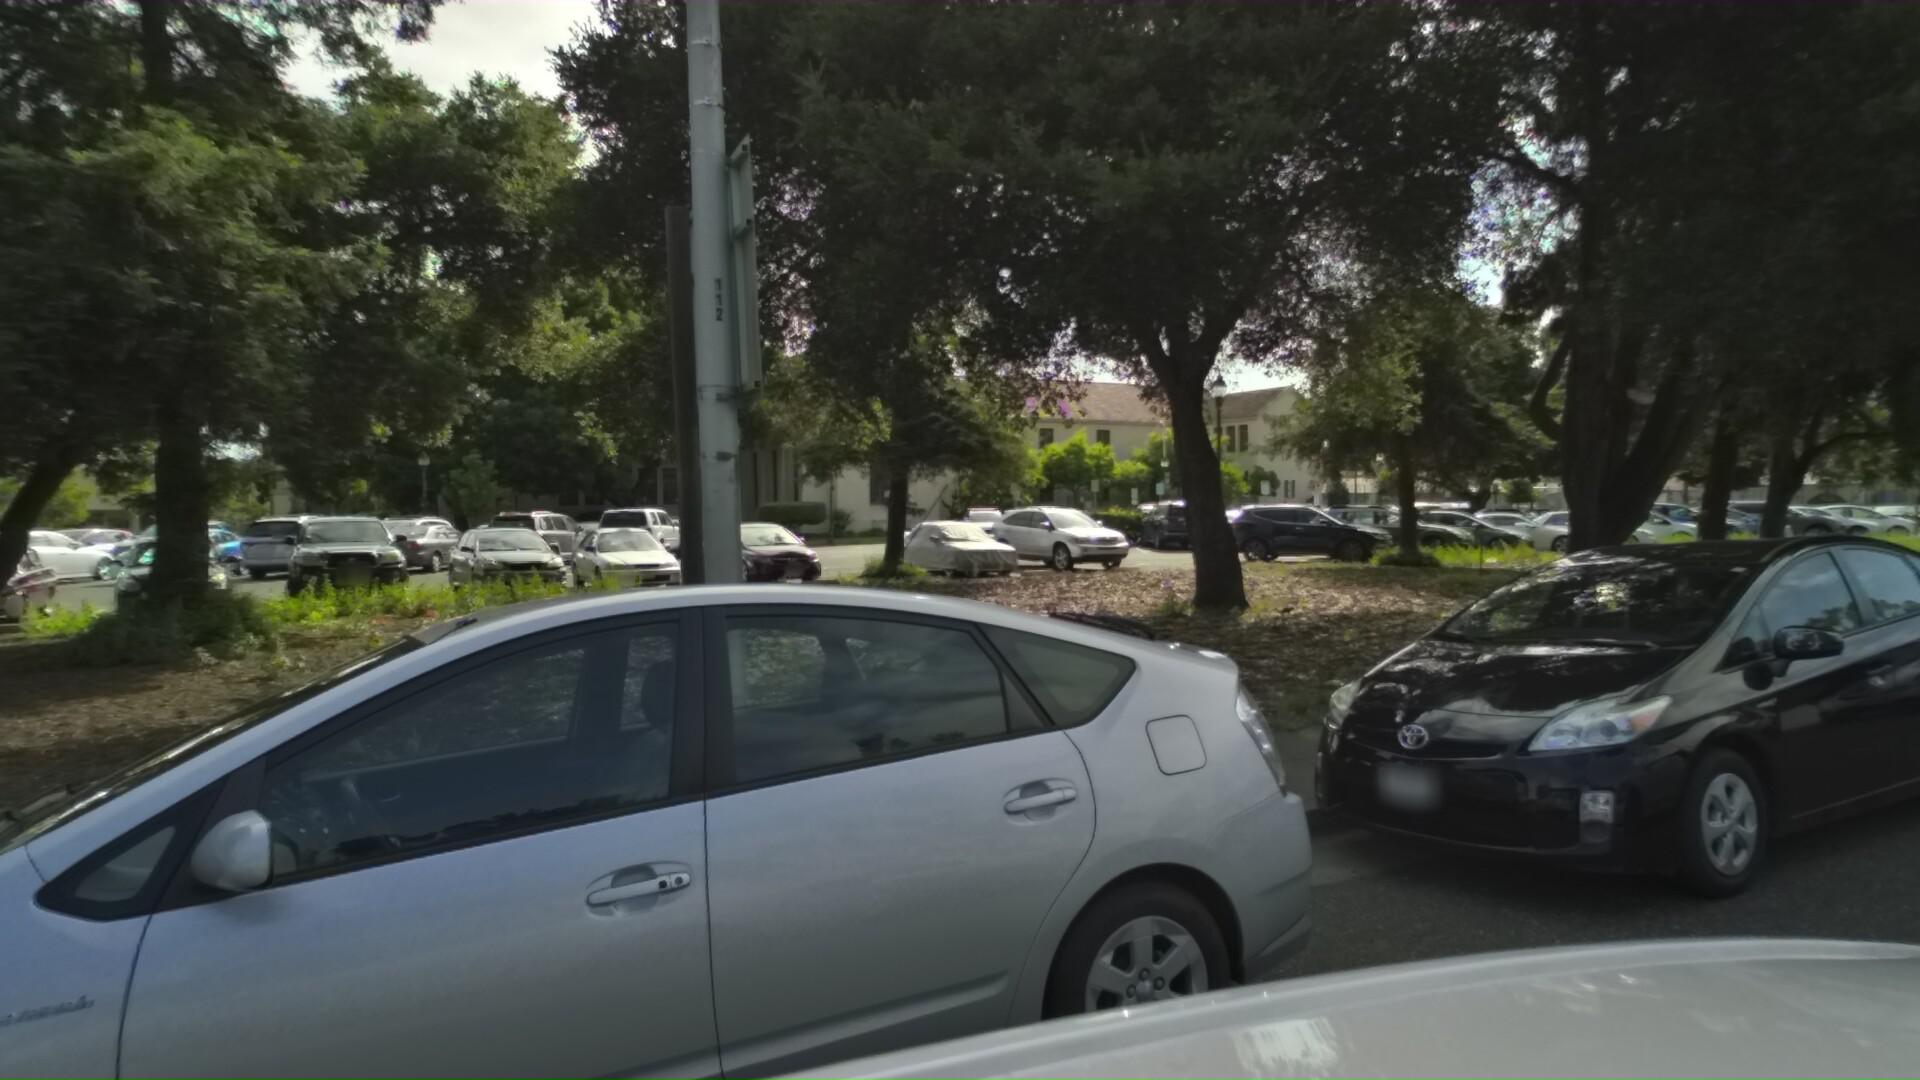car: (0, 543, 1362, 1080), (1246, 516, 1920, 961), (1822, 509, 1920, 764)
